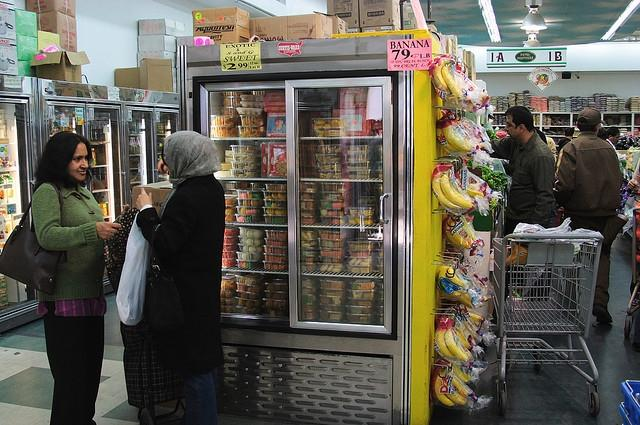banana: (440, 168, 475, 210), (432, 168, 463, 210), (442, 114, 471, 152), (444, 327, 470, 362), (434, 368, 454, 406), (442, 62, 462, 98), (436, 328, 456, 358), (432, 60, 450, 91), (449, 373, 470, 397), (446, 266, 466, 288), (453, 128, 474, 148), (454, 230, 472, 250), (445, 392, 467, 406), (451, 387, 468, 402), (457, 294, 473, 308), (466, 186, 484, 198), (462, 225, 474, 241), (458, 336, 472, 349), (468, 312, 484, 322), (470, 317, 480, 327), (460, 374, 470, 382), (462, 294, 472, 302)
